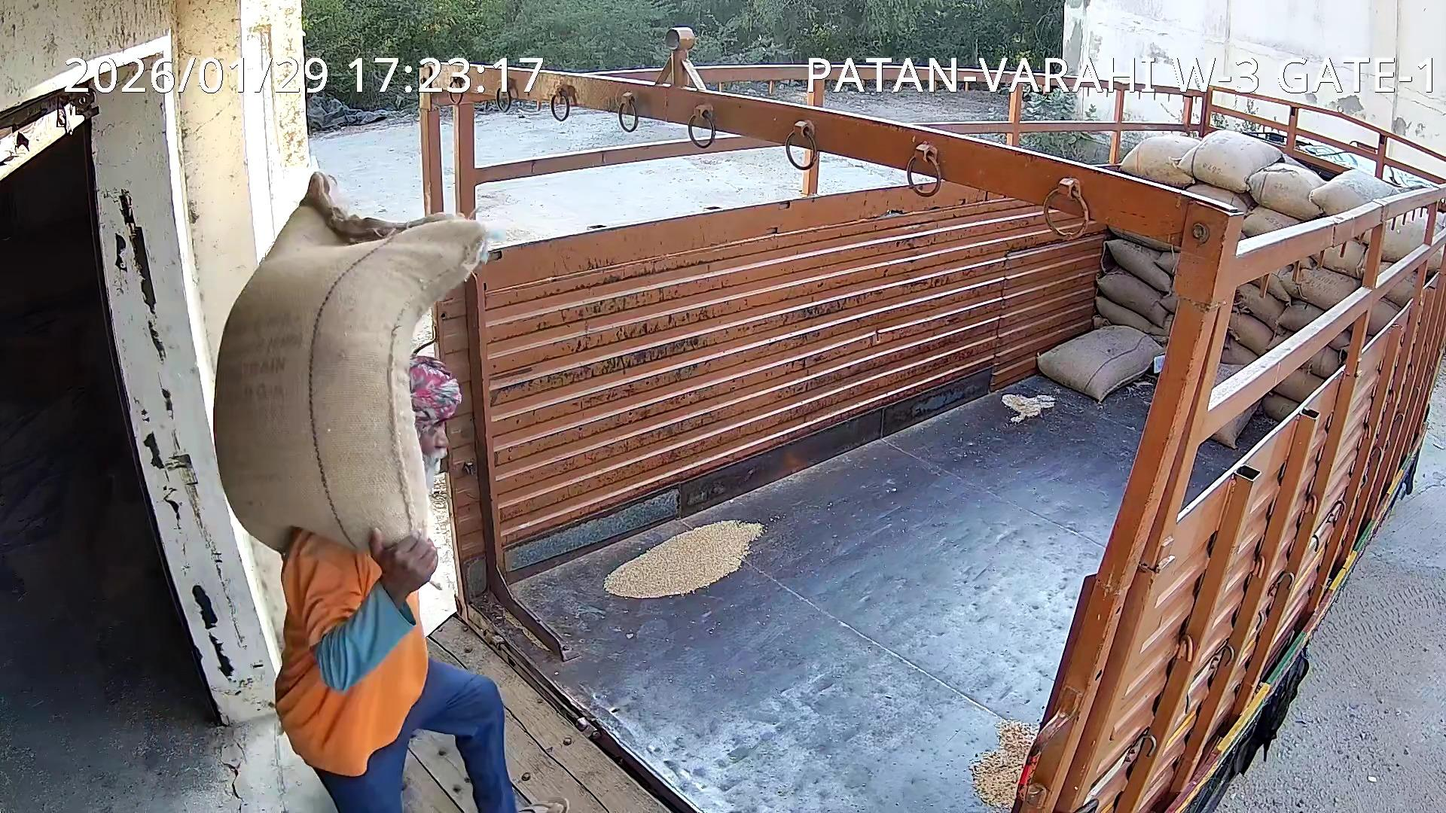Sack: (213, 174, 487, 552)
